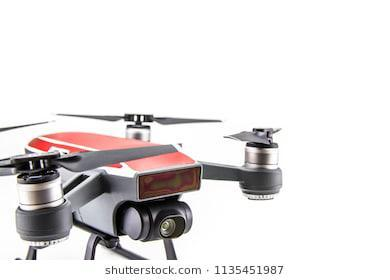drone: (3, 91, 304, 262)
